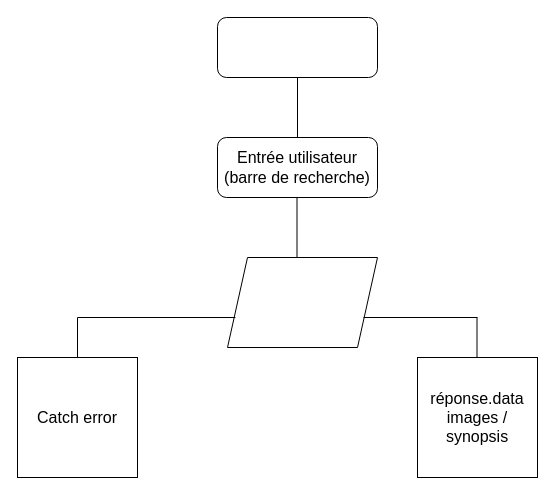
Image size: 555x495. Some labels were removed from this diagram. The shapes that lost their labels are listed below. From the top down, each one's box as (x1, y1, x2, y2) in pixels, then its label:
(216, 16, 378, 78): Début
(226, 256, 378, 348): Axios + api Jikan
